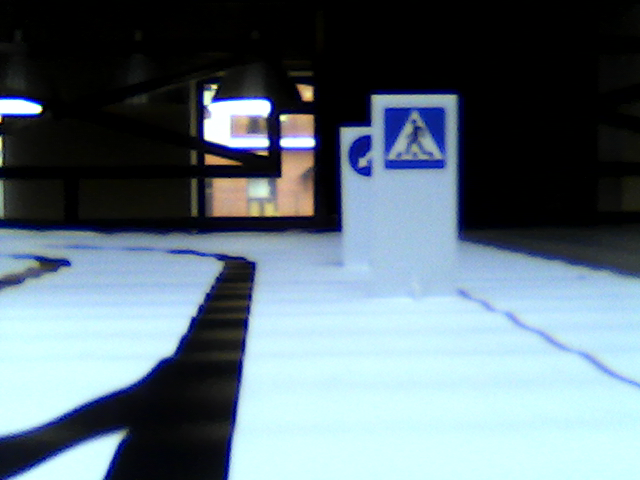pesh: (383, 106, 447, 166)
